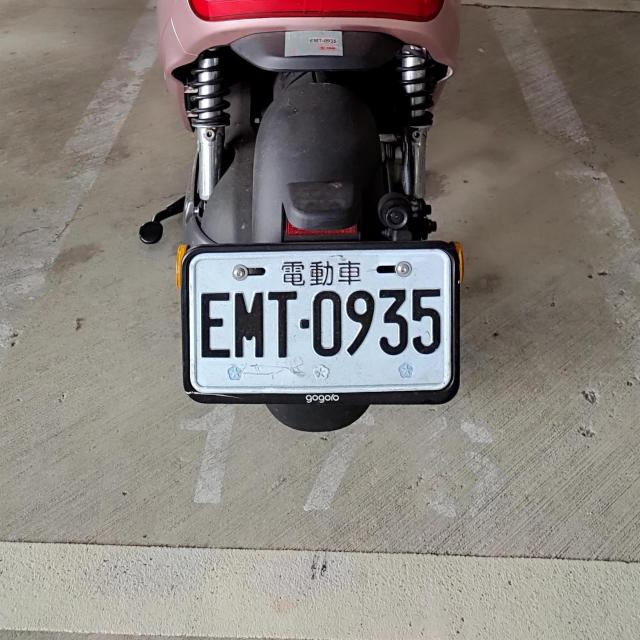W: (181, 238, 456, 400)
